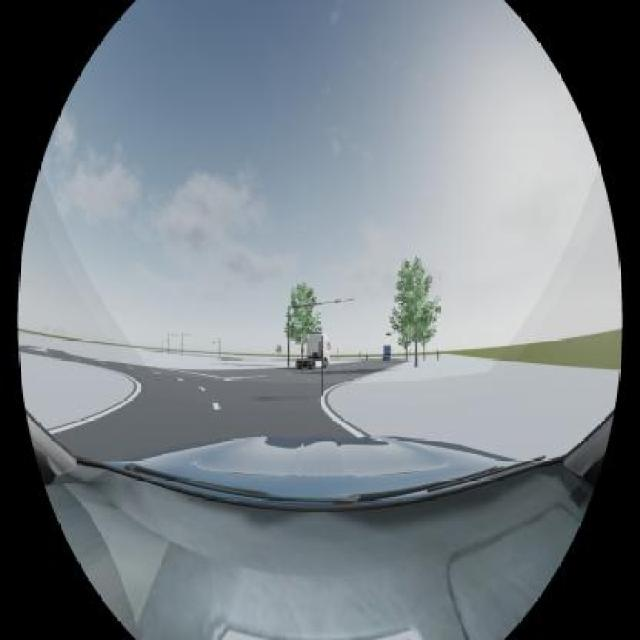forb_speed_over_60: (300, 346, 305, 354)
